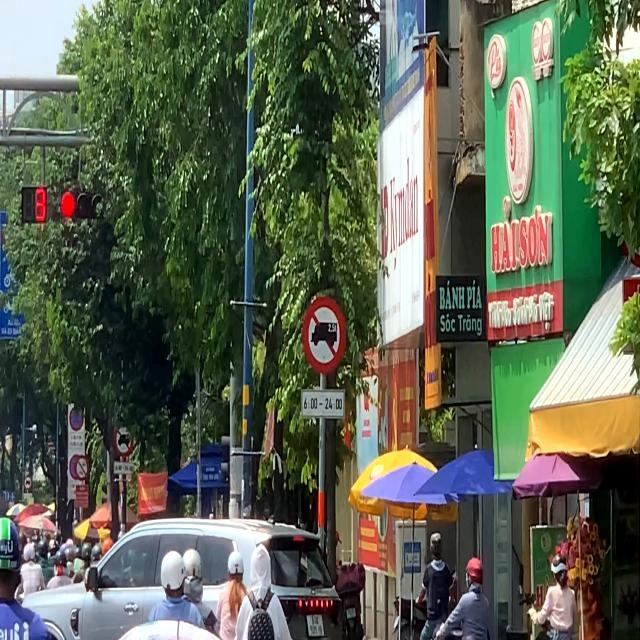bien_cam: (302, 295, 346, 375), (113, 421, 134, 457)
